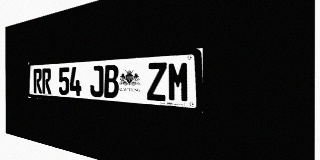4: (70, 67, 81, 96)
5: (59, 67, 69, 95)
B: (104, 65, 119, 98)
J: (90, 65, 103, 97)
M: (167, 61, 190, 103)
R: (42, 68, 51, 94), (33, 69, 42, 94)
Z: (147, 62, 167, 101)
